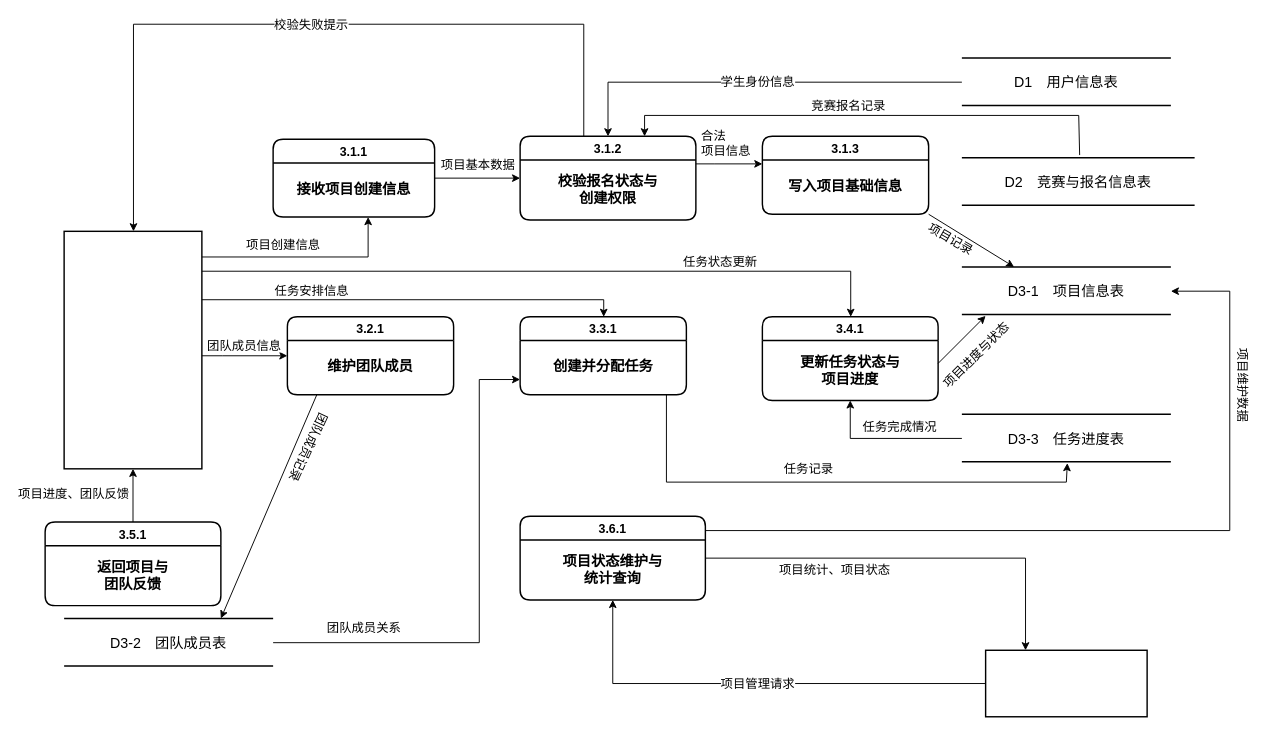
The diagram is 1272 pixels wide and 733 high, and some of its shapes have lost their labels. Here are the shapes that lost their labels. From the top down, the centre of each, then its label:
At (132,349): "学生".
At (1065,683): "管理员".
